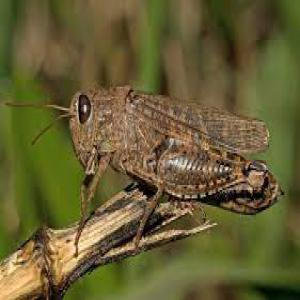locust: (57, 73, 285, 223)
